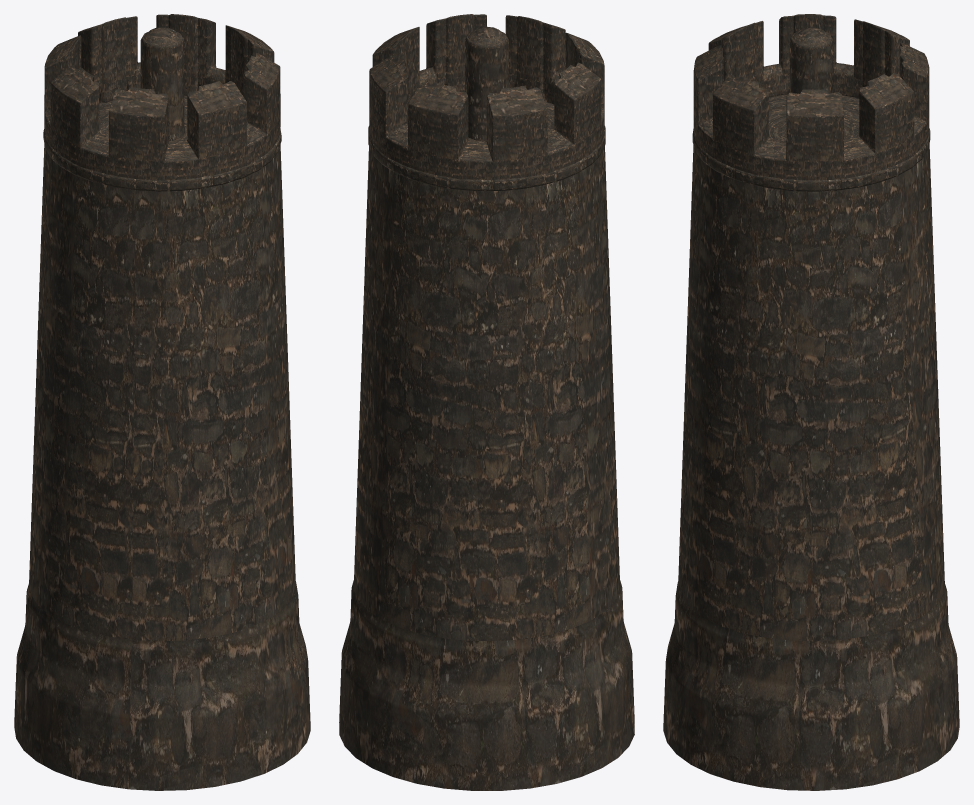
The model's file is block_54.glb.
The picture shows the model from 3 angles, left to right: view 1: azimuth 30°, elevation 25°; view 2: azimuth 150°, elevation 25°; view 3: azimuth 270°, elevation 25°; orthographic projection.
Parts seen in each view (by area): view 1: block_54; view 2: block_54; view 3: block_54.
Boxes of the visible parts, x1,y1,x2,y2 form: block_54: (14,14,310,790); block_54: (339,14,634,790); block_54: (663,14,959,790).
Bounding box in the file's own units: 5.7 × 14.85 × 5.7.
Materials: 2 (2 with a texture image).
